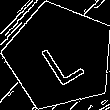L_NW: (32, 26, 87, 86)
